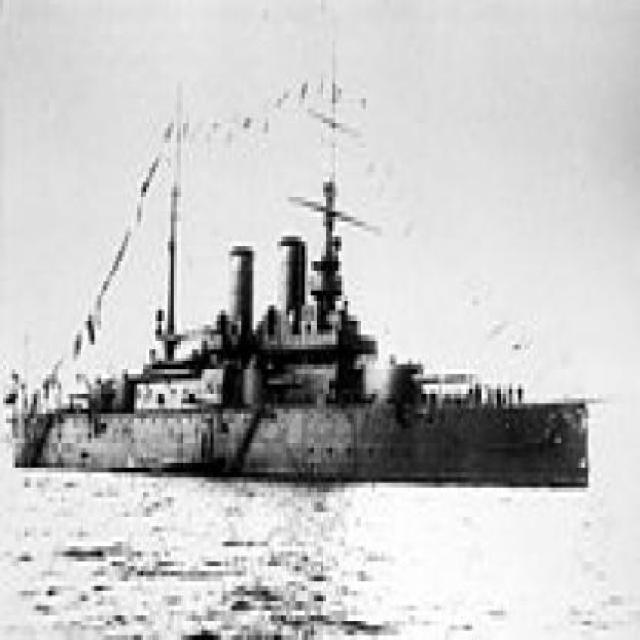warship2: (6, 36, 599, 503)
